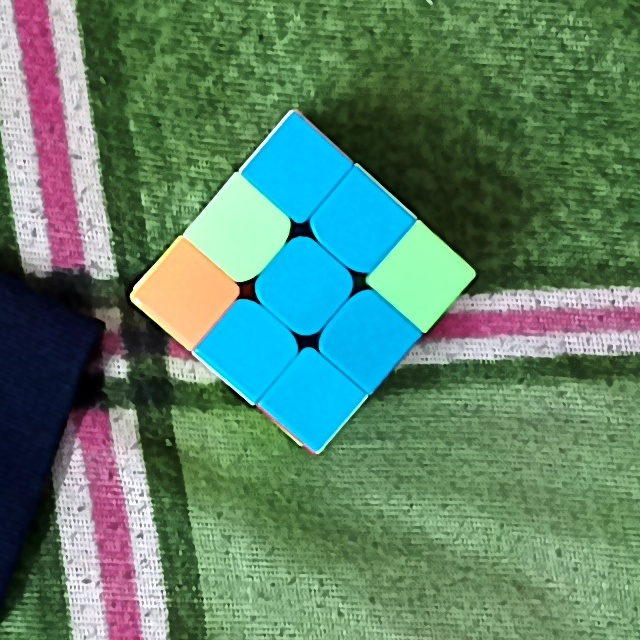tile: (266, 147, 326, 202), (211, 205, 268, 262), (156, 268, 217, 320), (281, 254, 332, 316), (338, 197, 390, 249), (401, 251, 450, 305), (292, 373, 342, 425), (346, 314, 396, 366), (228, 326, 278, 373)
